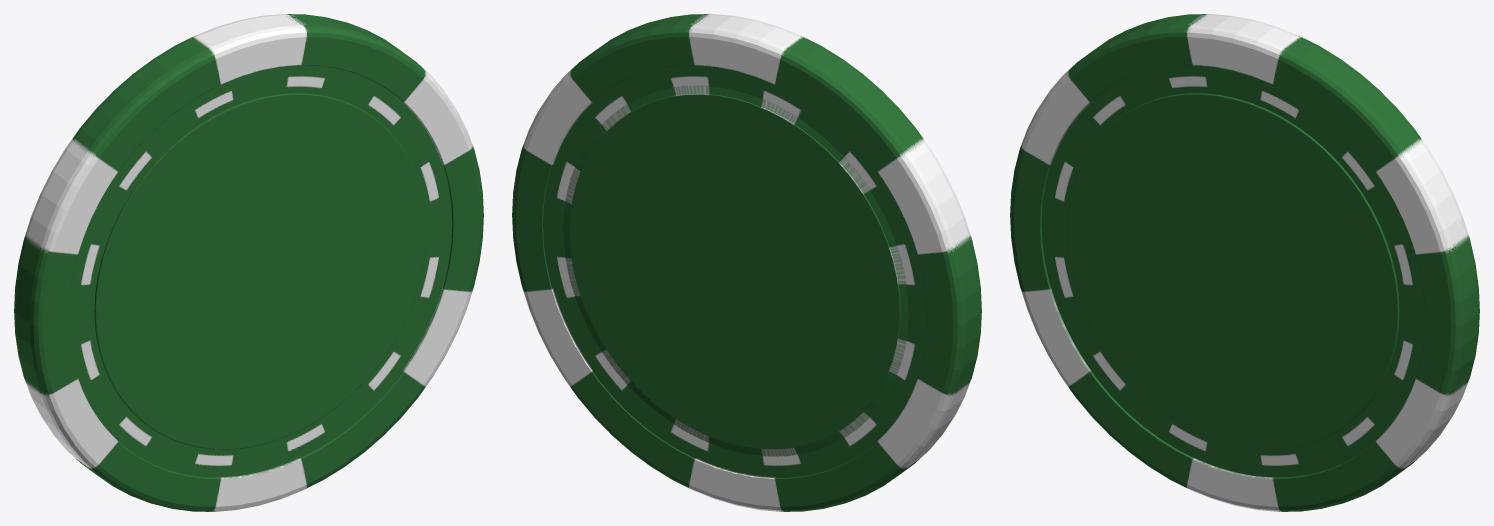
File: PokerChip.gltf
3 renders of one model, left to right at view 1: azimuth 30°, elevation 25°; view 2: azimuth 150°, elevation 25°; view 3: azimuth 330°, elevation 25°, orthographic.
Parts seen in each view (by area): view 1: Object_2; view 2: Object_2; view 3: Object_2.
Part boxes in pixels (x1,y1,x2,y2): Object_2: (14, 14, 483, 511); Object_2: (512, 14, 981, 511); Object_2: (1010, 14, 1479, 511).
Bounding box in the file's own units: 200 × 200 × 18.82.
Materials: 1 (1 with a texture image).
